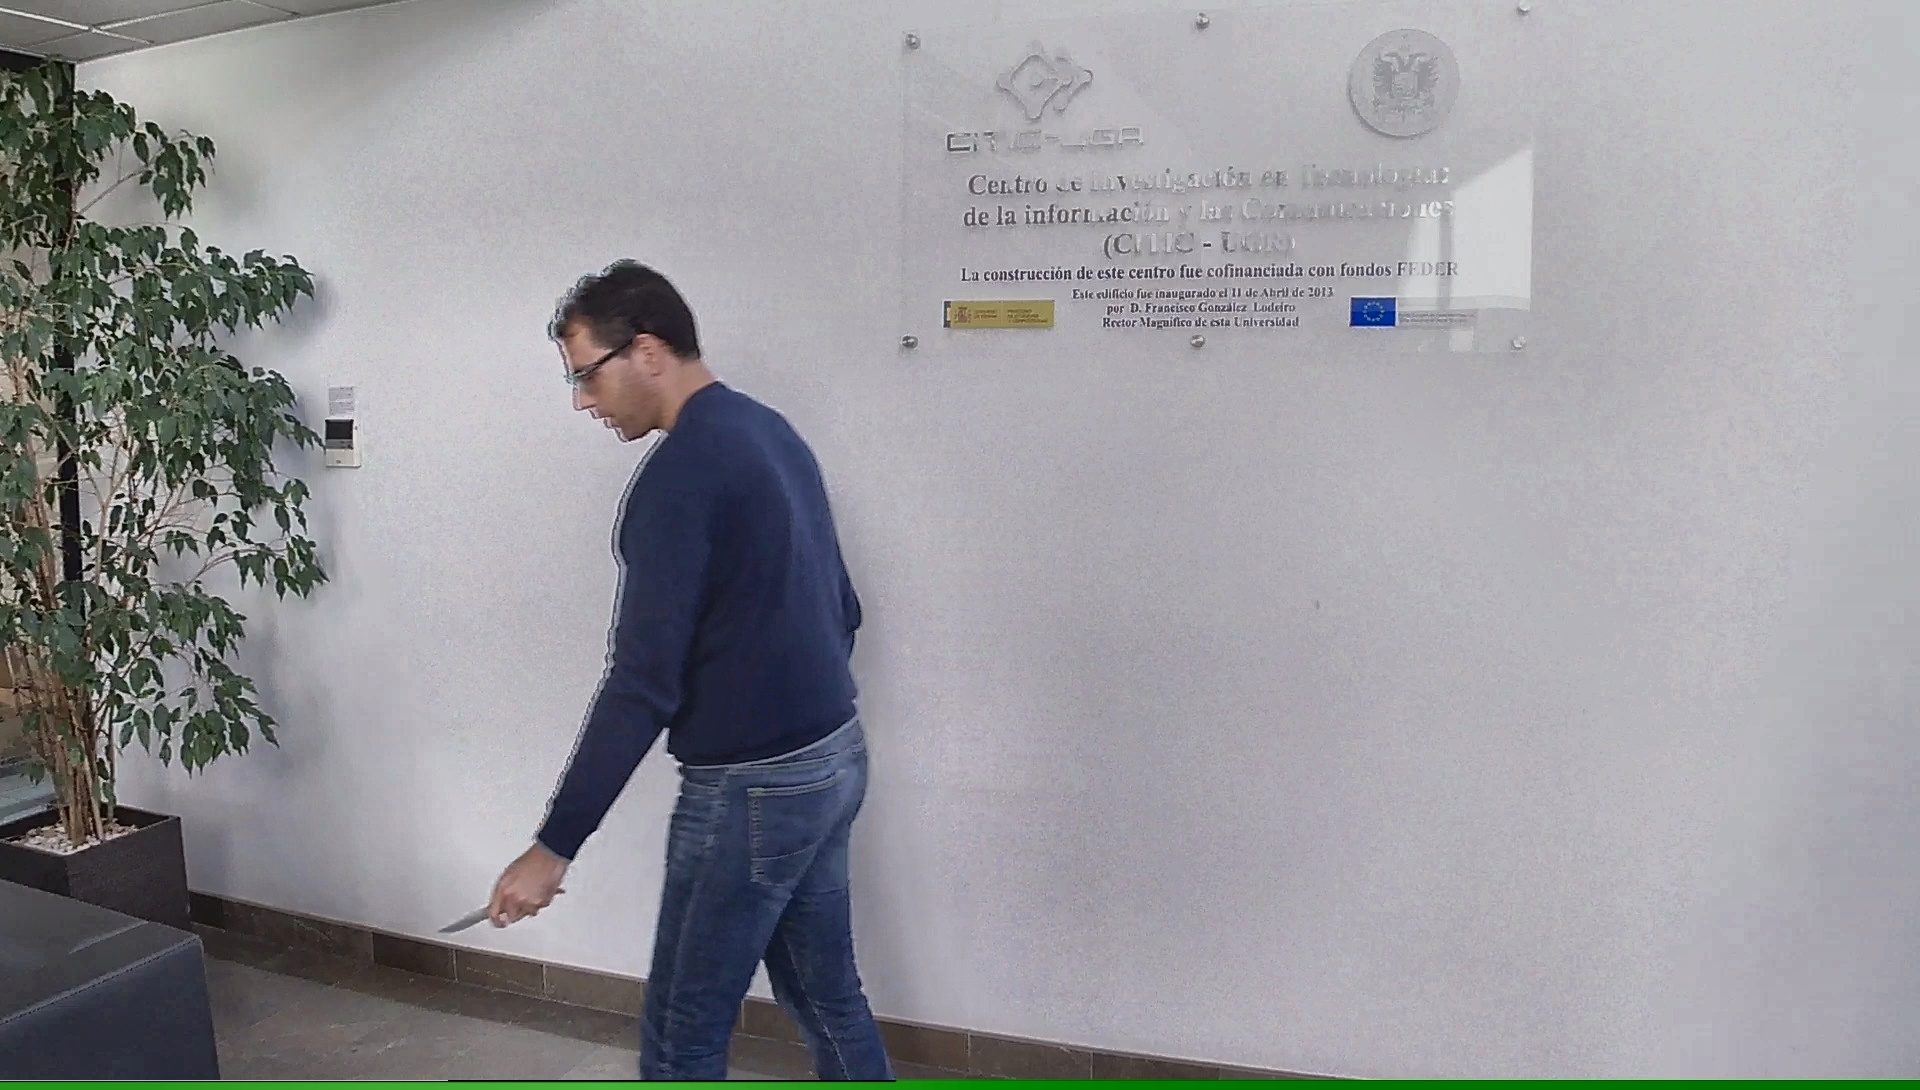knife: (429, 879, 572, 938)
